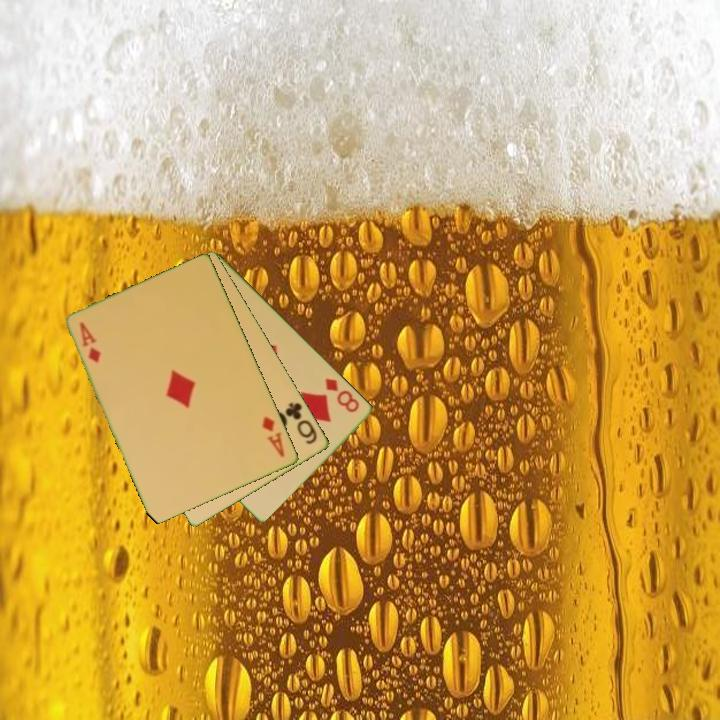6c: (282, 399, 320, 447)
8d: (322, 375, 363, 415)
Ad: (259, 413, 288, 460), (76, 319, 104, 366)
